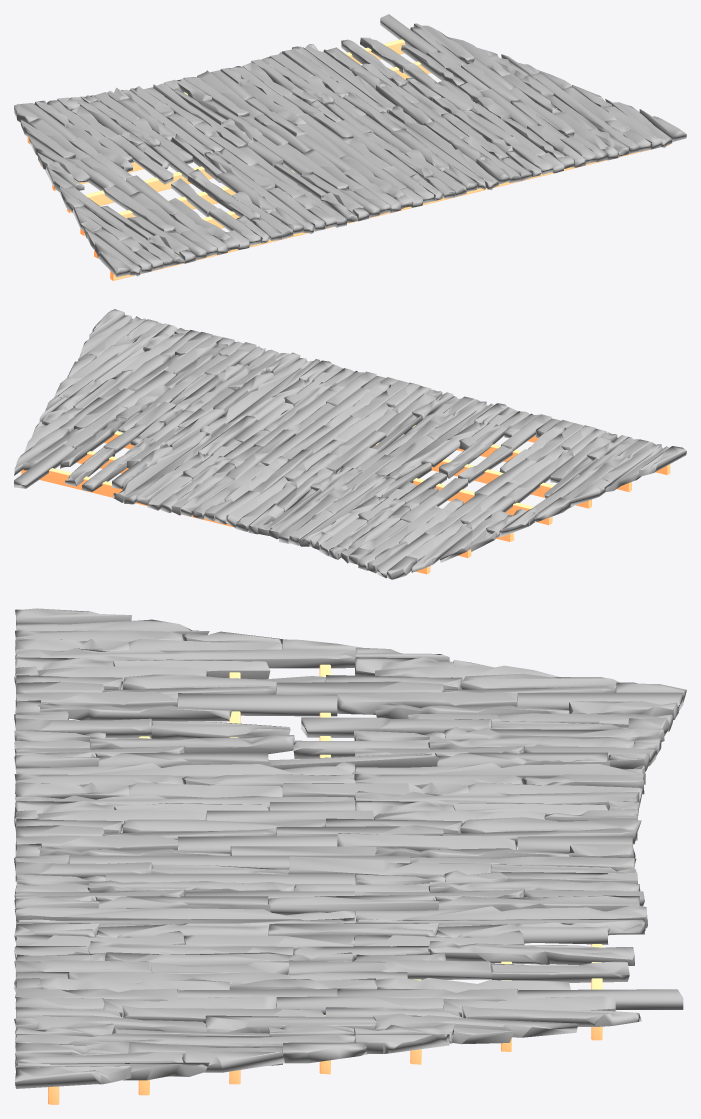
The model's file is SM_Floor_ForecastleTop.fbx.
3 renders of one model, top to bottom at view 1: azimuth 30°, elevation 25°; view 2: azimuth 150°, elevation 25°; view 3: azimuth 270°, elevation 25°, orthographic. The views are drawn at different scales.
Visible parts, largest first — view 1: SM_Floor_ForecastleTop_LOD0; view 2: SM_Floor_ForecastleTop_LOD0; view 3: SM_Floor_ForecastleTop_LOD0.
Part boxes in pixels (<box>): SM_Floor_ForecastleTop_LOD0: <box>14,14,686,280</box>; SM_Floor_ForecastleTop_LOD0: <box>14,309,686,579</box>; SM_Floor_ForecastleTop_LOD0: <box>14,608,686,1104</box>.
Bounding box in the file's own units: 986 × 595 × 35.55.
